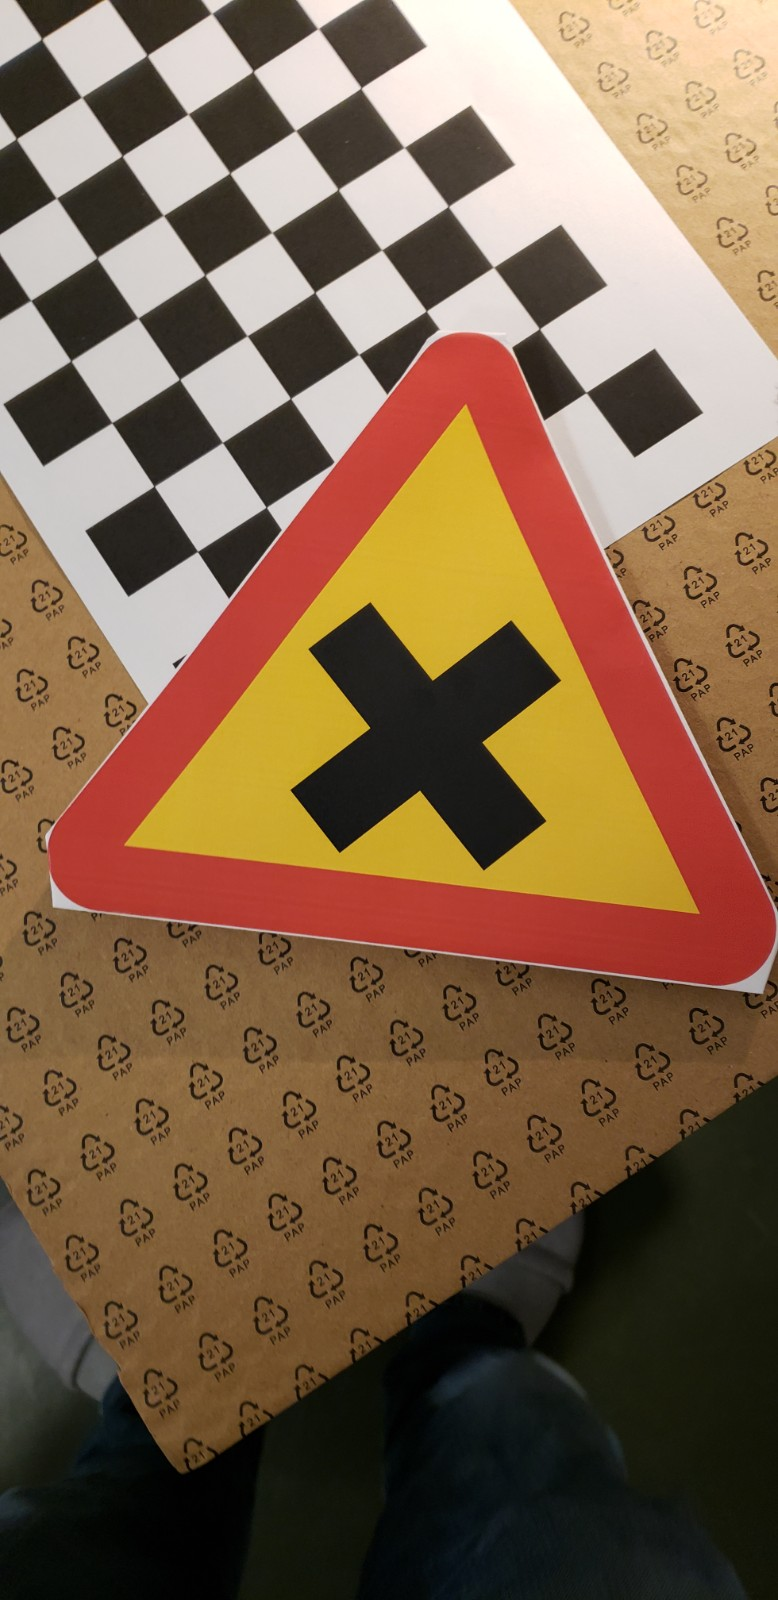junction: (60, 303, 778, 1005)
